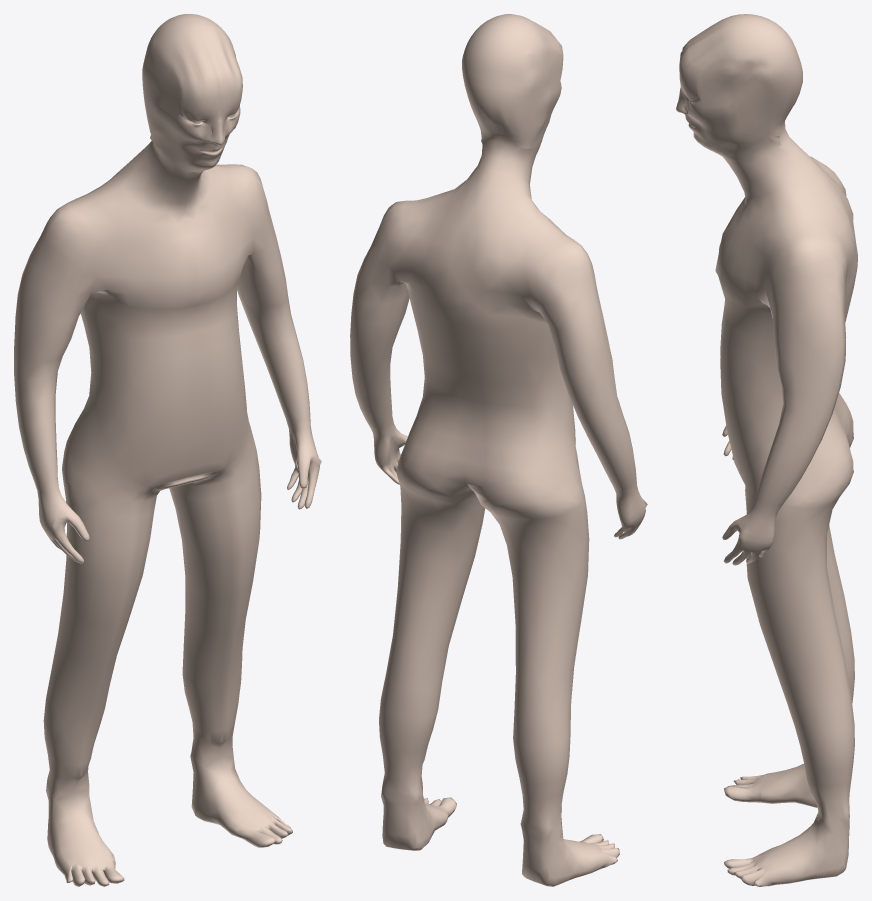
Rendered from knight.fbx.
The picture shows the model from 3 angles, left to right: view 1: azimuth 30°, elevation 25°; view 2: azimuth 150°, elevation 25°; view 3: azimuth 270°, elevation 25°; orthographic projection. The views are drawn at different scales.
Parts seen in each view (by area): view 1: pSphere3; view 2: pSphere3; view 3: pSphere3.
Boxes of the visible parts, x1=… form: pSphere3: x1=14, y1=14, x2=321, y2=886; pSphere3: x1=350, y1=14, x2=647, y2=886; pSphere3: x1=676, y1=14, x2=857, y2=886.
Bounding box in the file's own units: 11.59 × 33.67 × 6.75.
